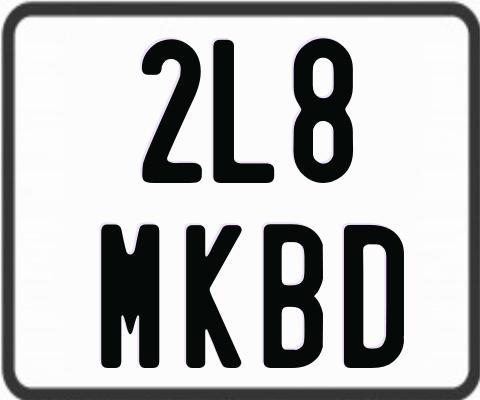2: (142, 36, 203, 183)
8: (291, 35, 353, 182)
B: (261, 221, 320, 365)
D: (342, 224, 407, 369)
K: (183, 225, 244, 368)
L: (213, 37, 275, 184)
M: (98, 223, 157, 368)
